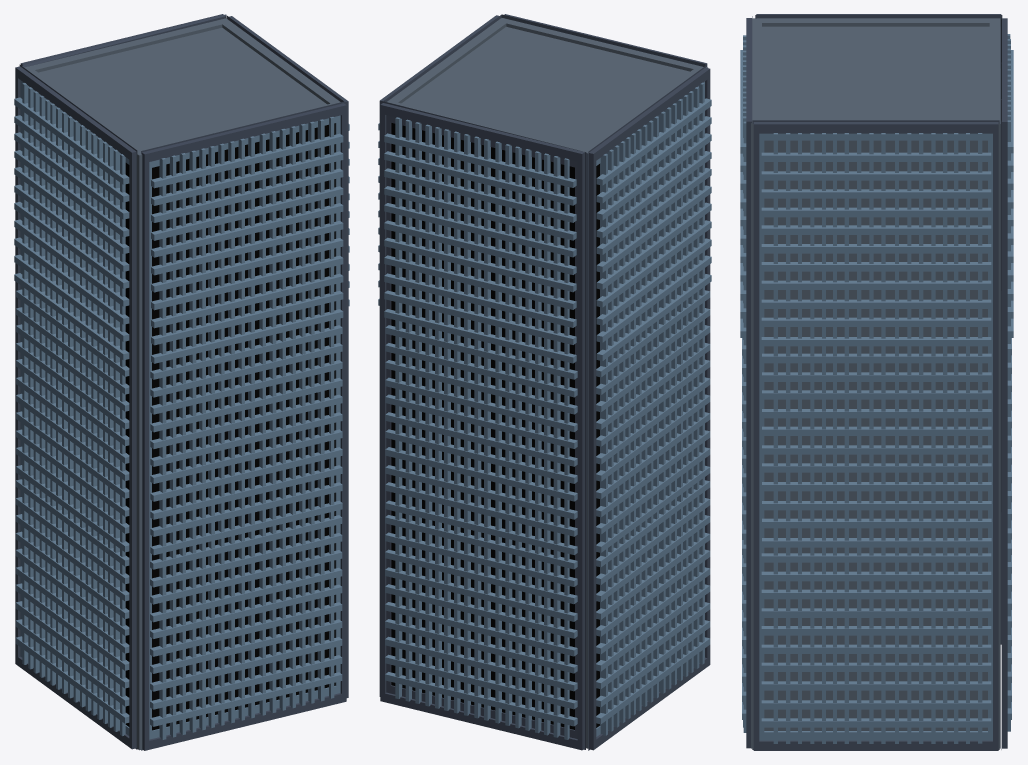
The model's file is biru_4.fbx.
The picture shows the model from 3 angles, left to right: view 1: azimuth 30°, elevation 25°; view 2: azimuth 150°, elevation 25°; view 3: azimuth 270°, elevation 25°; orthographic projection. The views are drawn at different scales.
Visible parts, largest first — view 1: Cube; view 2: Cube; view 3: Cube.
Part boxes in pixels (left/top/right/bottom): Cube: left=14, top=14, right=349, bottom=750; Cube: left=378, top=14, right=711, bottom=750; Cube: left=740, top=14, right=1013, bottom=750.
Bounding box in the file's own units: 219 × 556 × 219.
